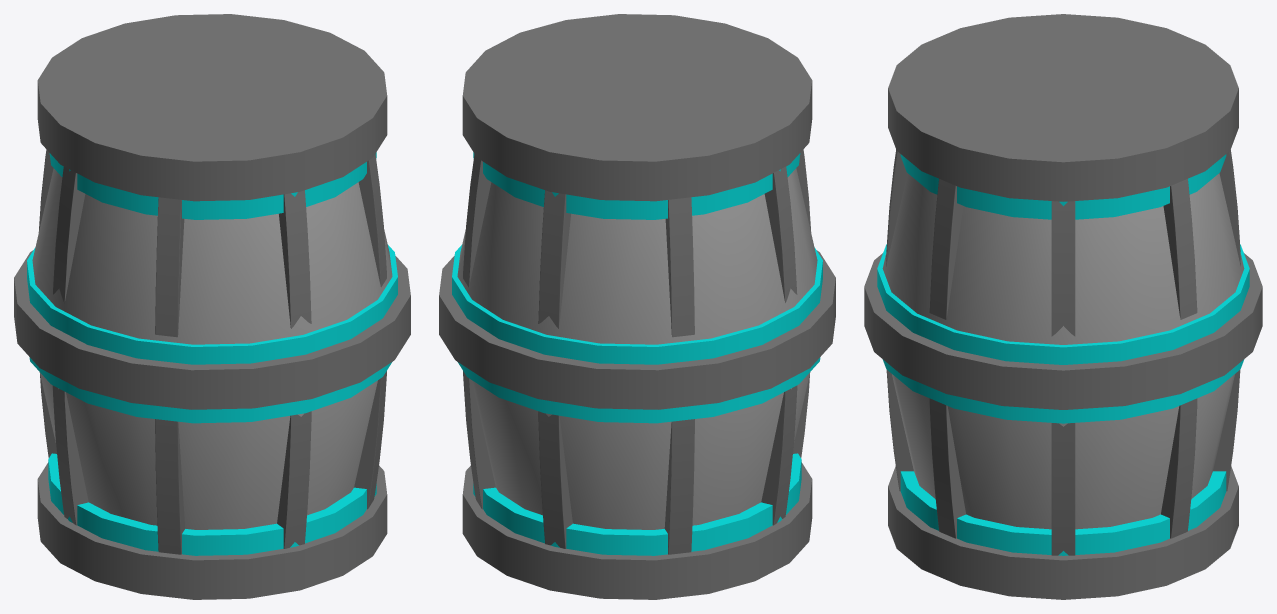
Rendered from barrel.fbx.
The picture shows the model from 3 angles, left to right: view 1: azimuth 30°, elevation 25°; view 2: azimuth 150°, elevation 25°; view 3: azimuth 270°, elevation 25°; orthographic projection.
Parts seen in each view (by area): view 1: barrelMerge; view 2: barrelMerge; view 3: barrelMerge.
Boxes of the visible parts, bbox=[...] form: barrelMerge: bbox=[14, 14, 410, 599]; barrelMerge: bbox=[439, 14, 835, 599]; barrelMerge: bbox=[864, 14, 1262, 599].
Size of the model in its own units: 2.7 by 3.27 by 2.7.
